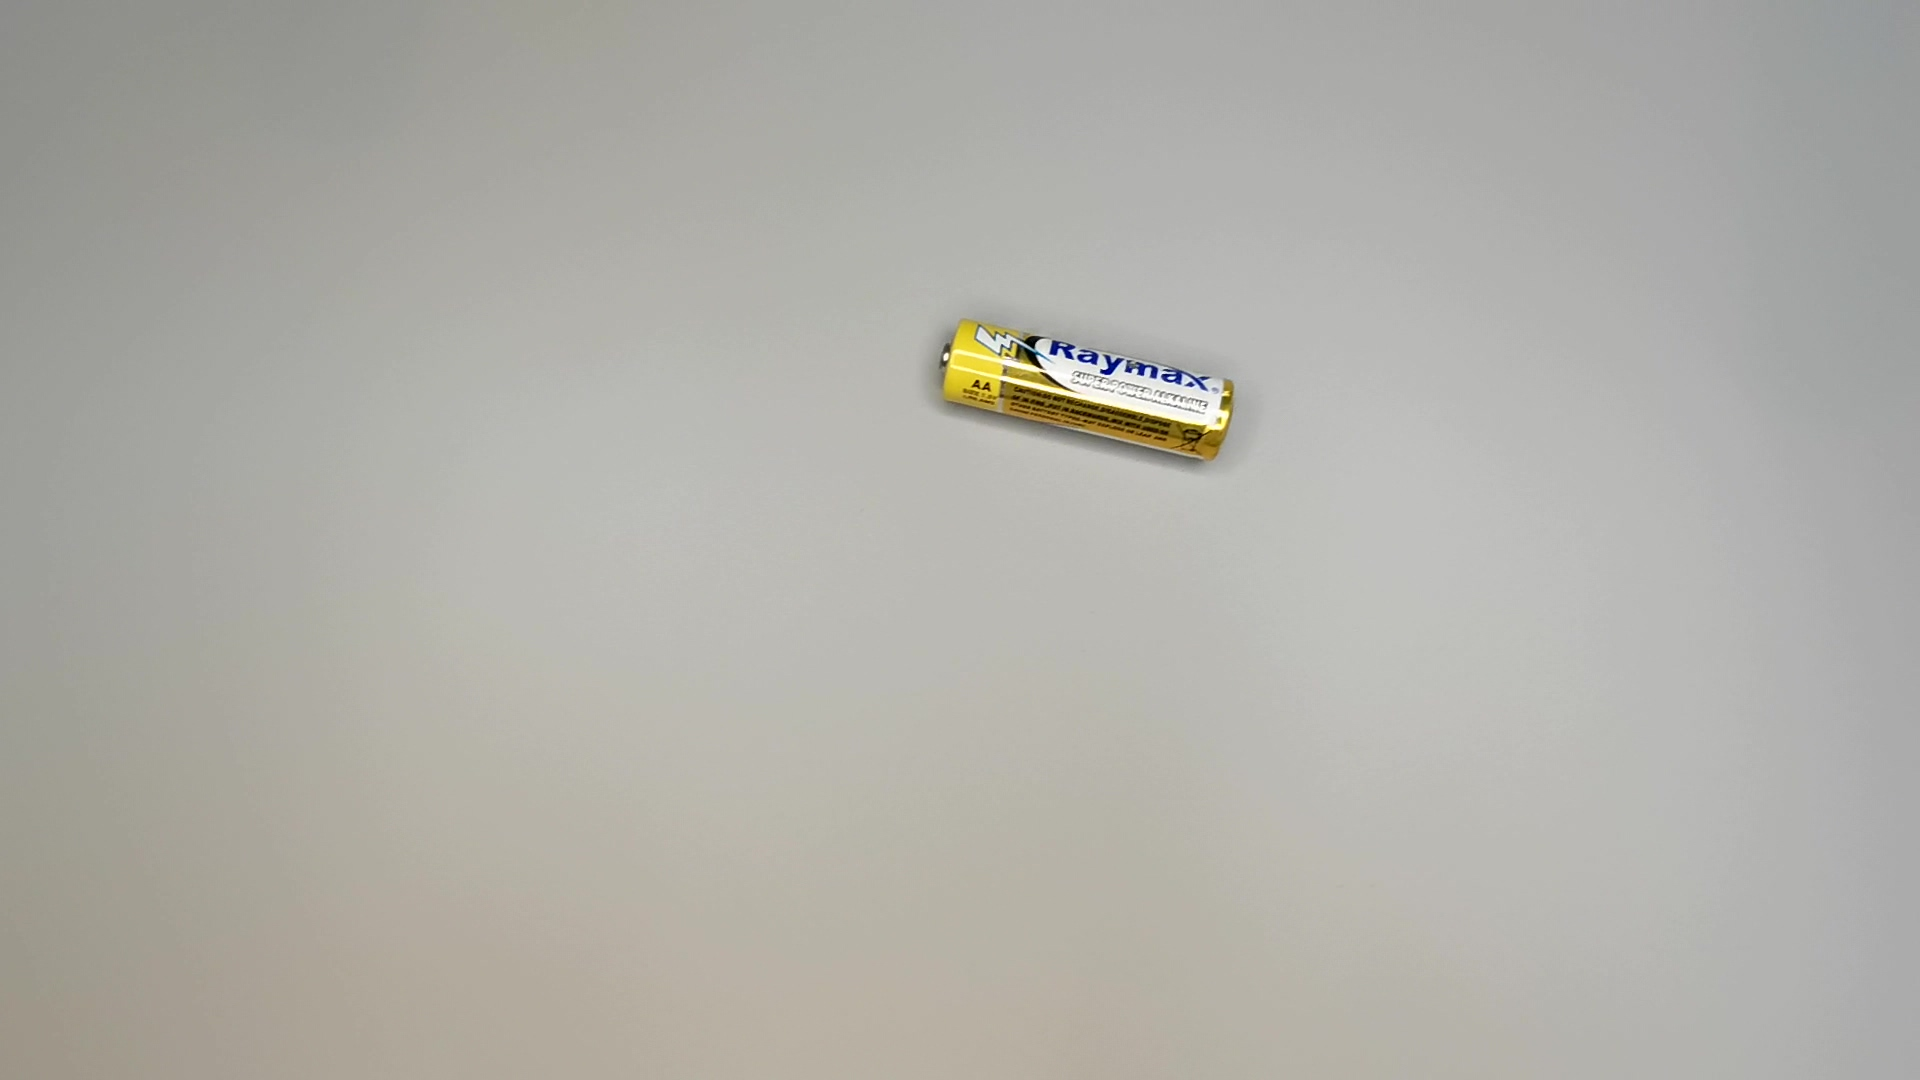battery: (934, 313, 1244, 475)
